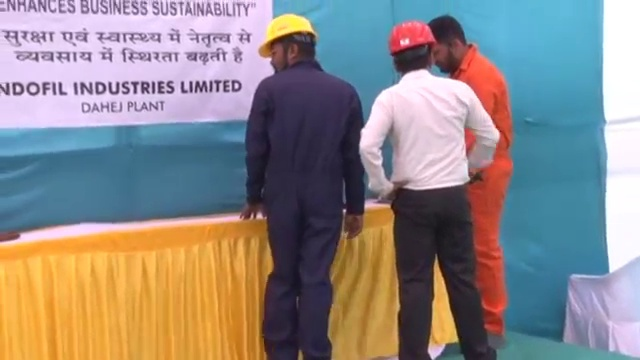helmet: (257, 13, 319, 58), (387, 19, 437, 55)
helmet_off: (429, 14, 474, 72)
helmet_on: (256, 13, 319, 73), (387, 18, 437, 77)
person: (358, 18, 497, 360), (241, 13, 366, 360), (428, 14, 514, 349)
